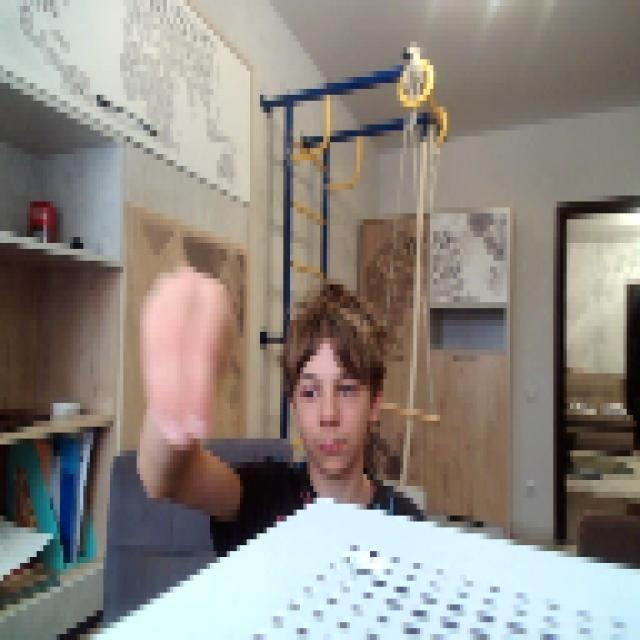left_click: (134, 255, 234, 444)
